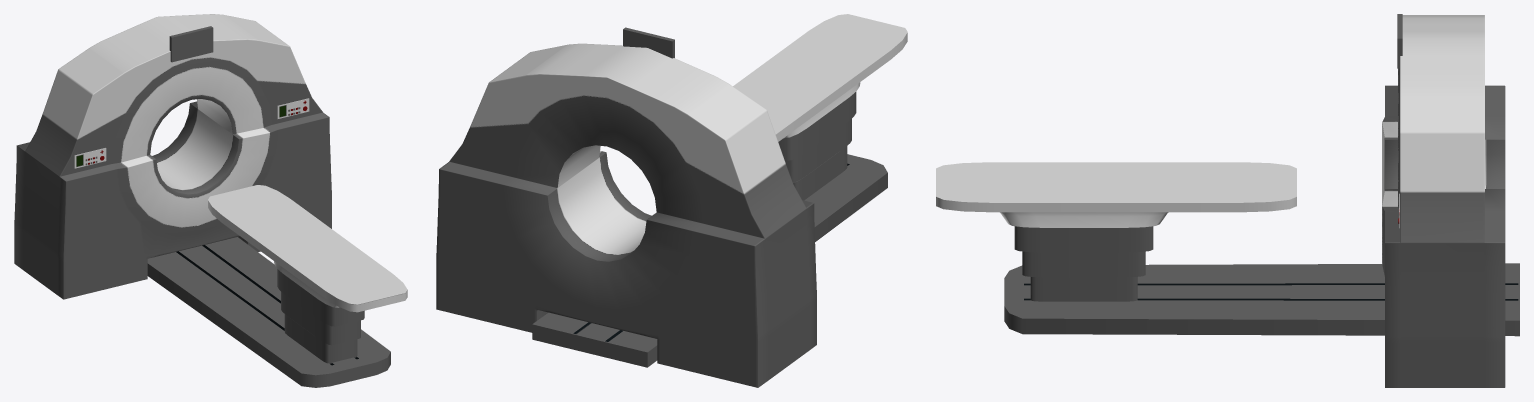
File: Tomography.fbx
3 views of the same model, side by side, from view 1: azimuth 30°, elevation 25°; view 2: azimuth 150°, elevation 25°; view 3: azimuth 270°, elevation 25° (orthographic). The views are drawn at different scales.
Parts seen in each view (by area): view 1: Tomography, Tomography_Bed; view 2: Tomography, Tomography_Bed; view 3: Tomography, Tomography_Bed.
Part boxes in pixels (box(x1,y1,x2,y2)): Tomography: box(14, 14, 390, 387); Tomography_Bed: box(208, 185, 407, 363); Tomography: box(436, 27, 887, 387); Tomography_Bed: box(733, 14, 907, 200); Tomography: box(1004, 14, 1519, 387); Tomography_Bed: box(936, 162, 1296, 301).
Size of the model in its own units: 219 by 180 by 338.
